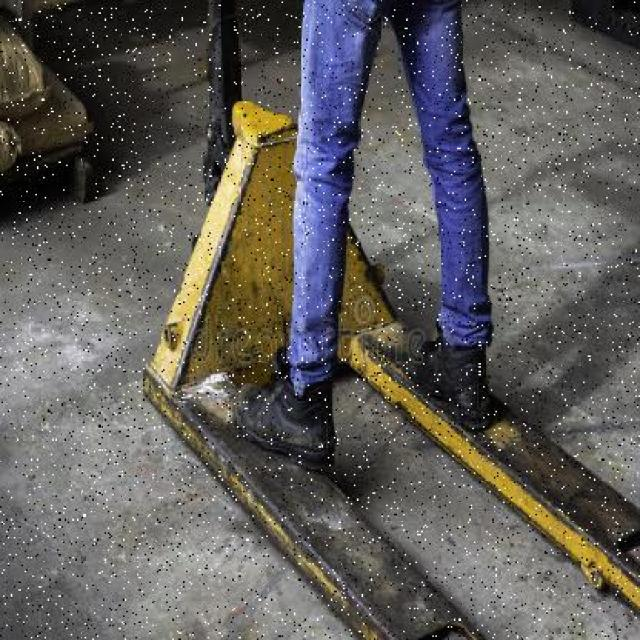shoes: (235, 360, 342, 471), (406, 335, 496, 436)
